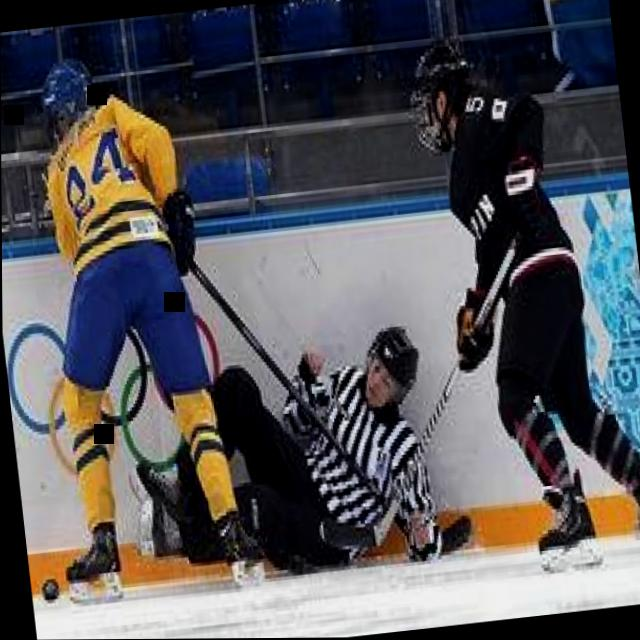Fall-Detected: (95, 276, 489, 601)
